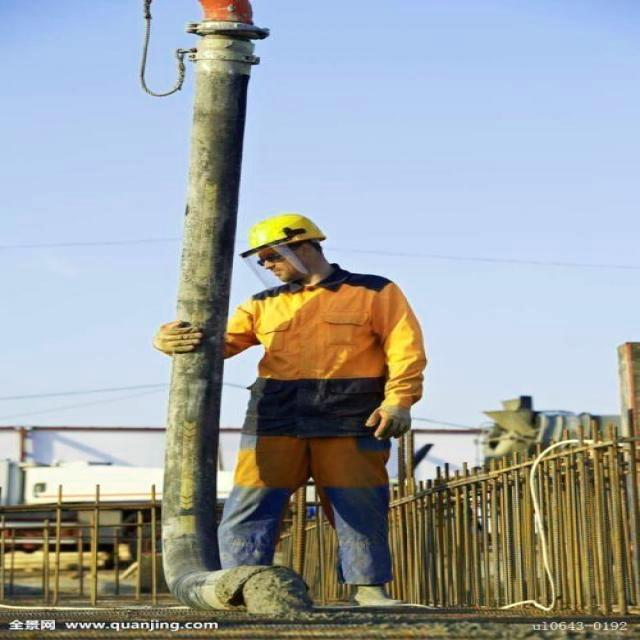glasses: (250, 249, 300, 272)
hand_glove: (365, 401, 414, 443), (153, 319, 202, 360)
head_helmet: (245, 211, 329, 255)
person: (211, 201, 429, 617)
